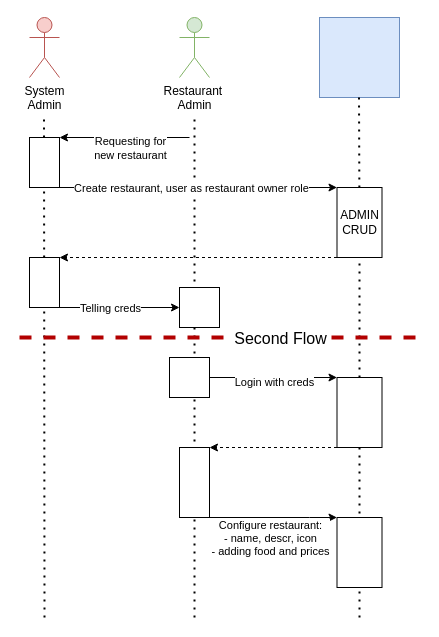
Some shapes in this 439 by 637 pixel diagram are drawn without their labels. The box of each missing label's shape, as (x1, y1, x2, y2) in pixels:
Auth: (336, 376, 382, 448)
Order sys: (318, 16, 400, 98)
